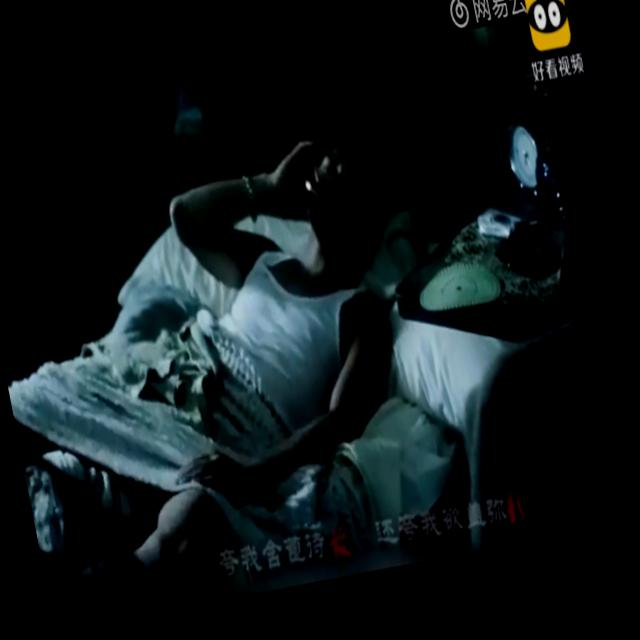cigarette: (303, 177, 323, 210)
